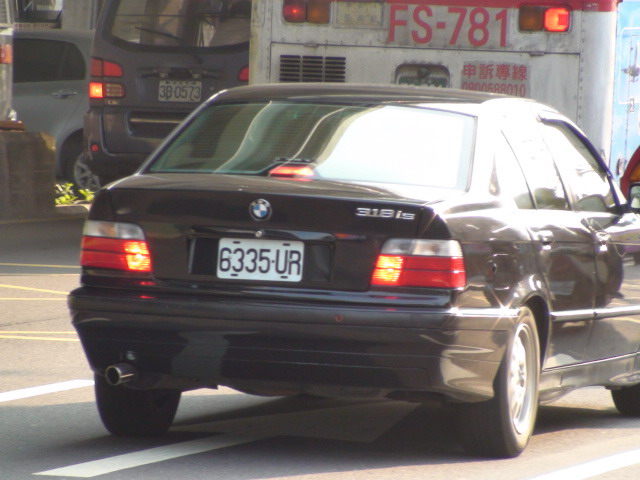plate: (216, 232, 305, 286), (156, 78, 204, 104)
